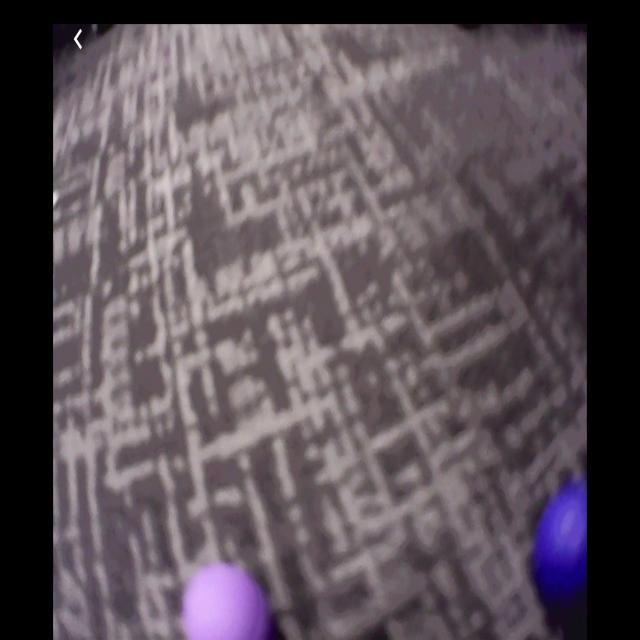ball: (532, 479, 589, 604), (182, 565, 270, 640)
